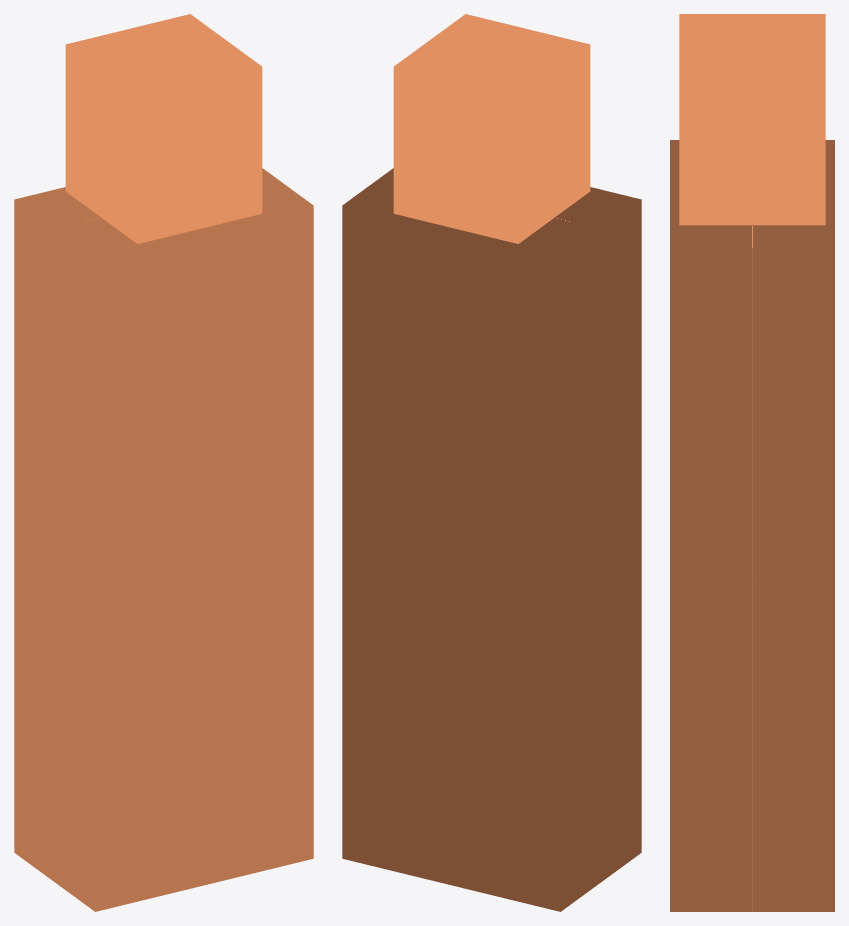
3 views of the same model, side by side, from view 1: azimuth 30°, elevation 25°; view 2: azimuth 150°, elevation 25°; view 3: azimuth 270°, elevation 25° (orthographic).
Visible parts, largest first — view 1: Root; view 2: Root; view 3: Root.
Boxes of the visible parts, bbox=[...] form: Root: bbox=[14, 14, 313, 911]; Root: bbox=[342, 14, 641, 911]; Root: bbox=[670, 14, 834, 911].
Bounding box in the file's own units: 0.56 × 1.96 × 0.36.
